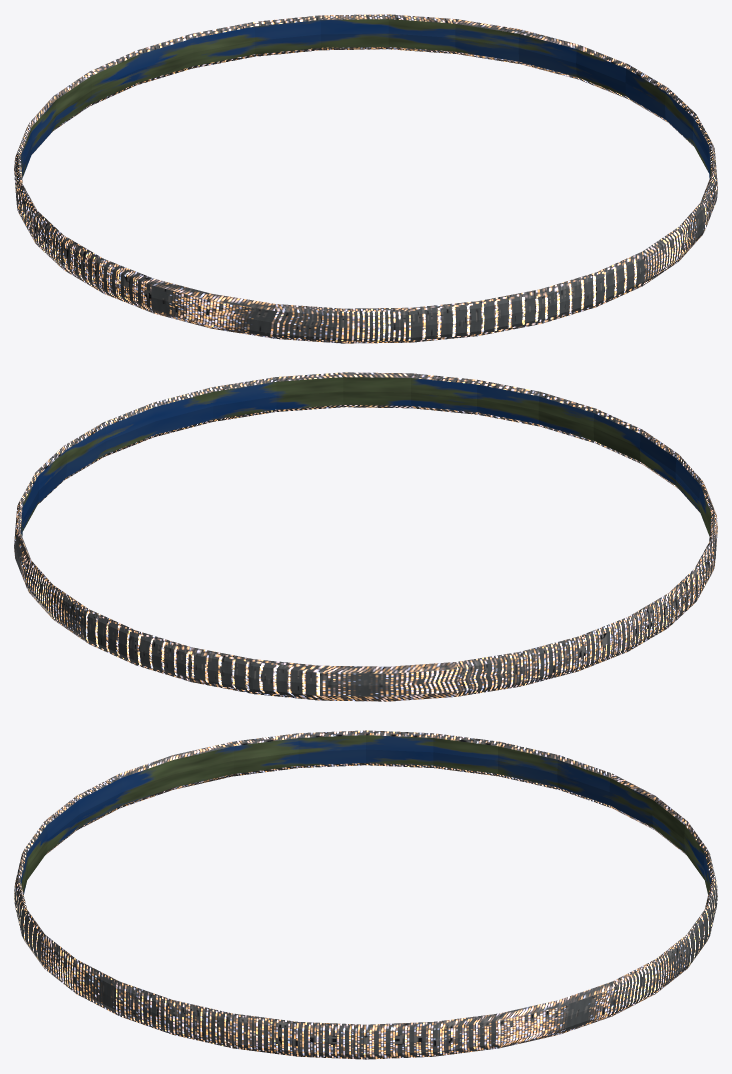
File: RingWorld-01.fbx
3 renders of one model, top to bottom at view 1: azimuth 30°, elevation 25°; view 2: azimuth 150°, elevation 25°; view 3: azimuth 270°, elevation 25°, orthographic.
Parts seen in each view (by area): view 1: RingWorld; view 2: RingWorld; view 3: RingWorld.
Boxes of the visible parts, bbox=[...] form: RingWorld: bbox=[14, 14, 717, 343]; RingWorld: bbox=[14, 372, 717, 701]; RingWorld: bbox=[14, 730, 717, 1059].
Size of the model in its own units: 316 by 17.27 by 316.
